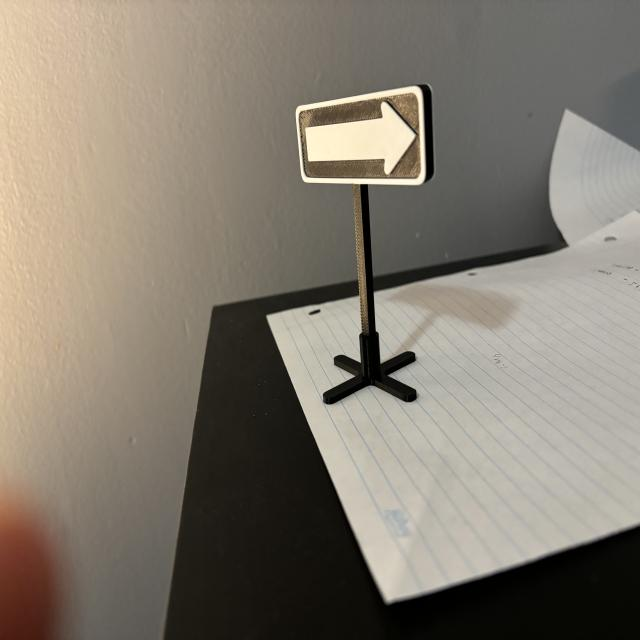sign_oneway_right: (298, 87, 427, 186)
